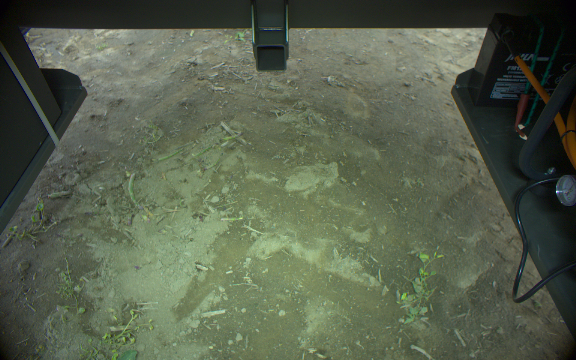aspa: (126, 170, 143, 210)
